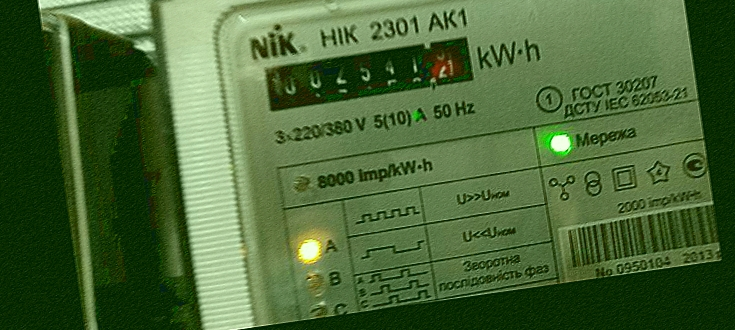0: (277, 70, 299, 98), (305, 64, 322, 92)
1: (403, 48, 420, 76)
2: (328, 60, 348, 87)
4: (380, 52, 396, 77)
5: (353, 55, 375, 85)
6: (432, 60, 450, 80)
screen: (248, 21, 489, 125)
